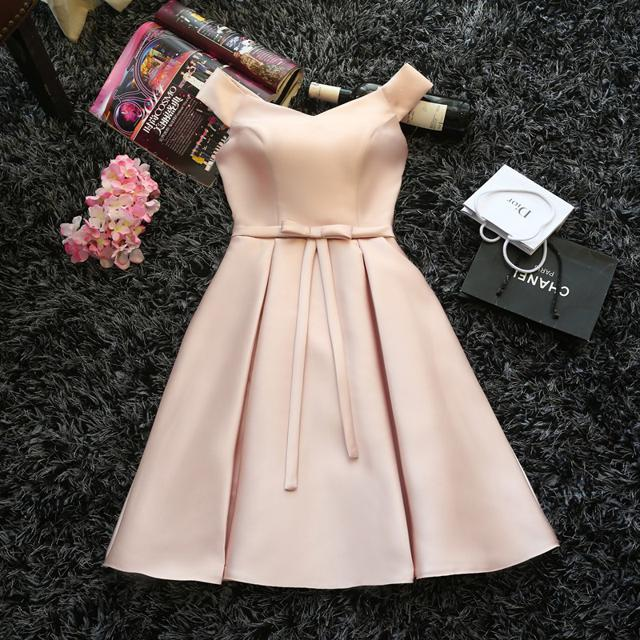Dresses: (101, 61, 561, 591)
